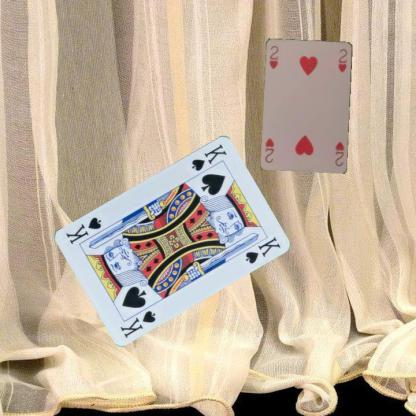2h: (266, 43, 280, 70), (332, 139, 345, 168)
Ks: (117, 308, 157, 340), (189, 141, 228, 172)
